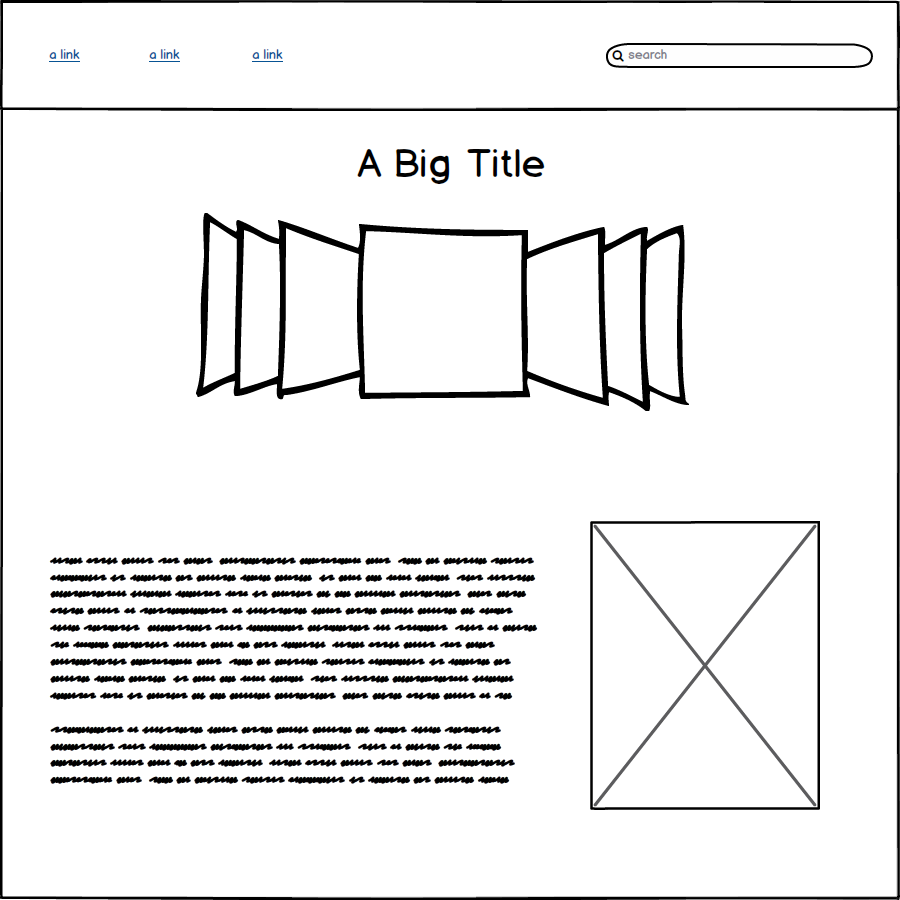h1: (350, 134, 548, 192)
image: (582, 517, 827, 817)
navlink: (137, 36, 196, 80), (41, 40, 86, 71), (250, 38, 287, 73)
p: (37, 545, 546, 799)
search: (600, 34, 882, 78)
slideshow: (179, 207, 708, 421)
